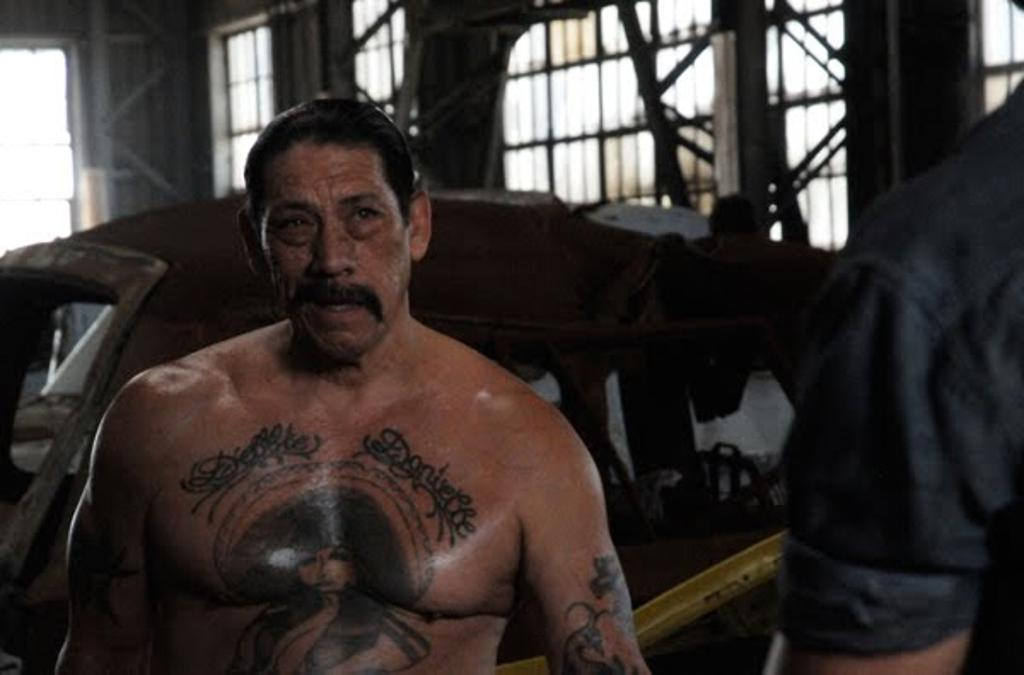face: (270, 146, 402, 336)
